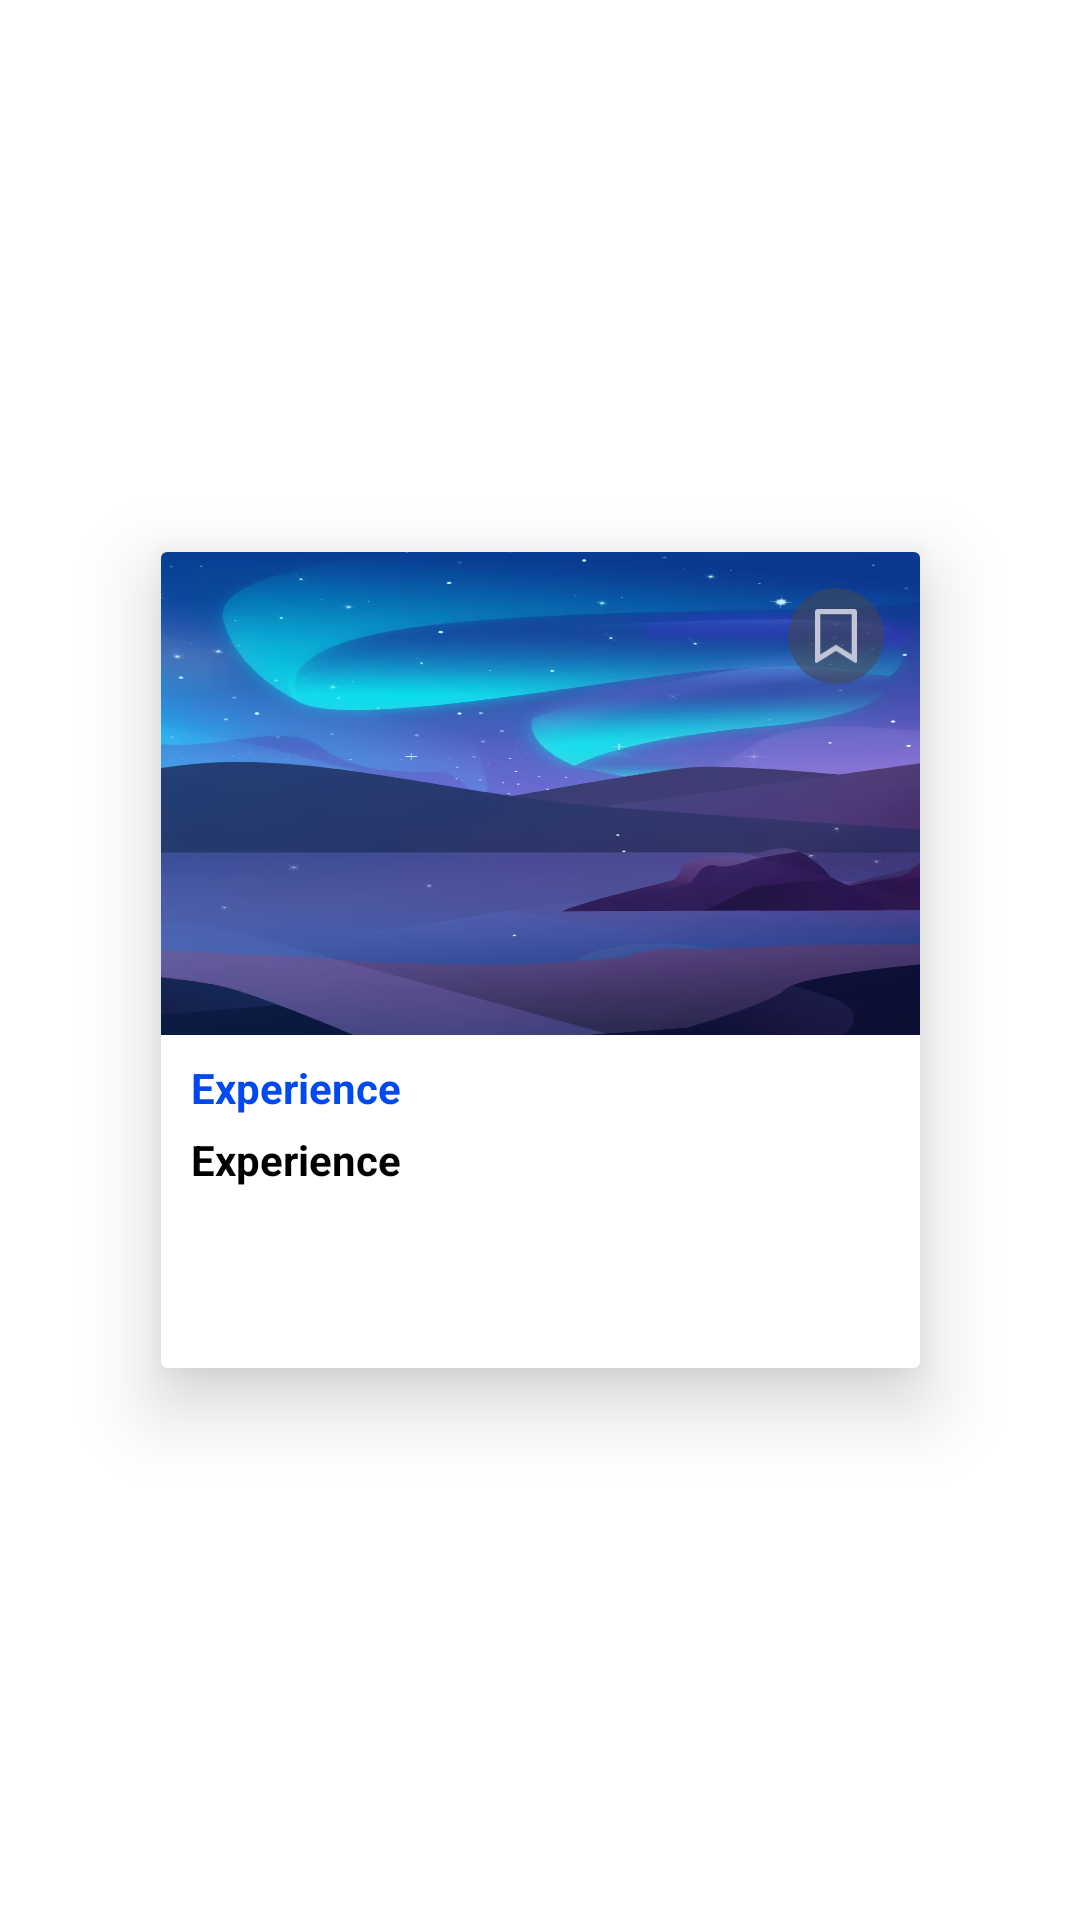

Where to tap for icons on this 1080 × 1920 app screen, as point (x, y):
bookmark tablayout: point (836, 636)
